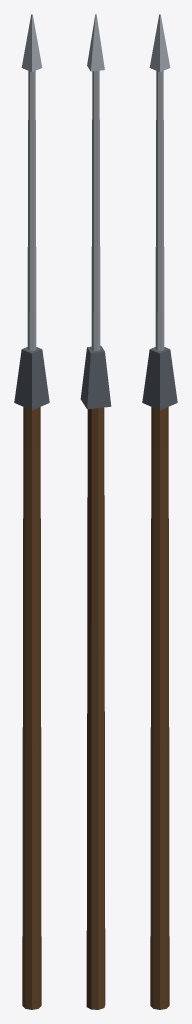
The model's file is g-javelin-pilum.glb.
3 renders of one model, left to right at view 1: azimuth 90°, elevation 25°; view 2: azimuth 150°, elevation 25°; view 3: azimuth 270°, elevation 25°, orthographic.
Visible parts, largest first — view 1: g-javelin-pilum; view 2: g-javelin-pilum; view 3: g-javelin-pilum.
Part boxes in pixels (x1,y1,x2,y2): g-javelin-pilum: (14, 14, 49, 1009); g-javelin-pilum: (80, 14, 111, 1009); g-javelin-pilum: (142, 14, 177, 1009).
Size of the model in its own units: 0.048 by 1.48 by 0.048.
